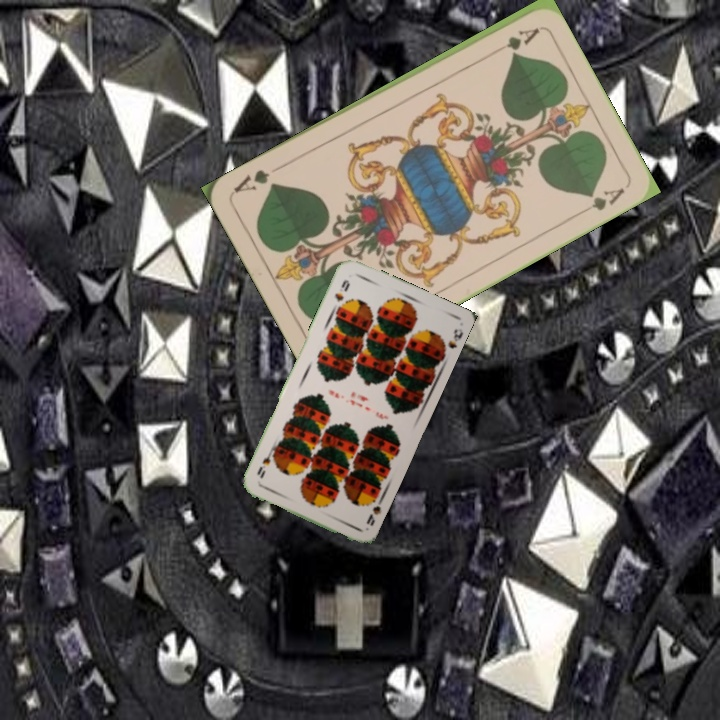GA: (502, 23, 542, 52)
S9: (362, 492, 386, 528), (331, 276, 352, 304)
